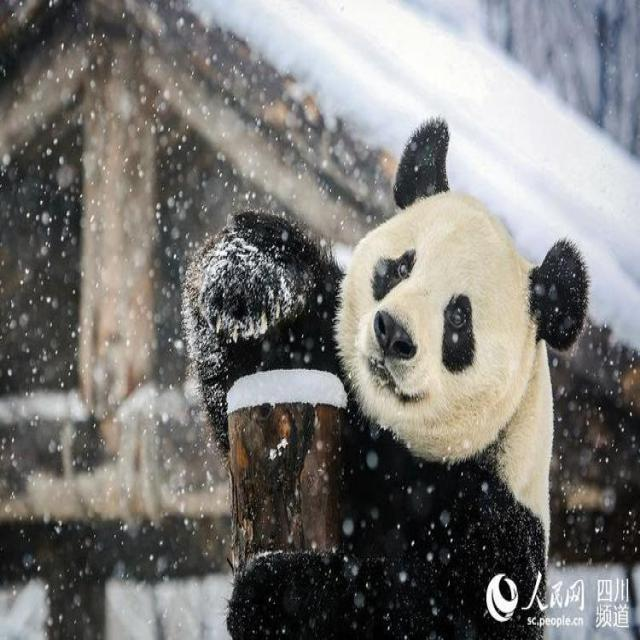panda: (188, 129, 563, 640)
